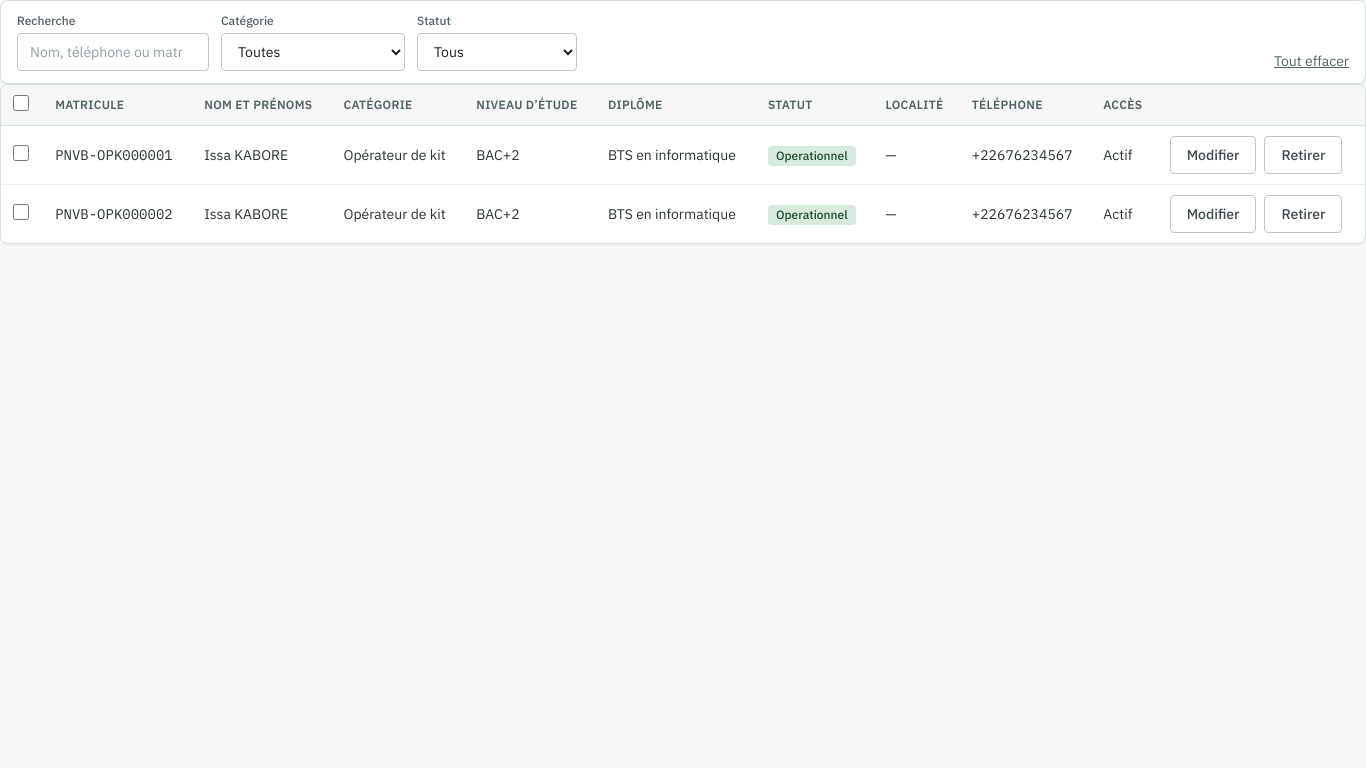
Test case: Registre des volontaires › retire un lot de fiches avec un motif
Step 1. Click the checkbox named "Cocher toute la page" → point(21, 103), box [13, 95, 29, 111]
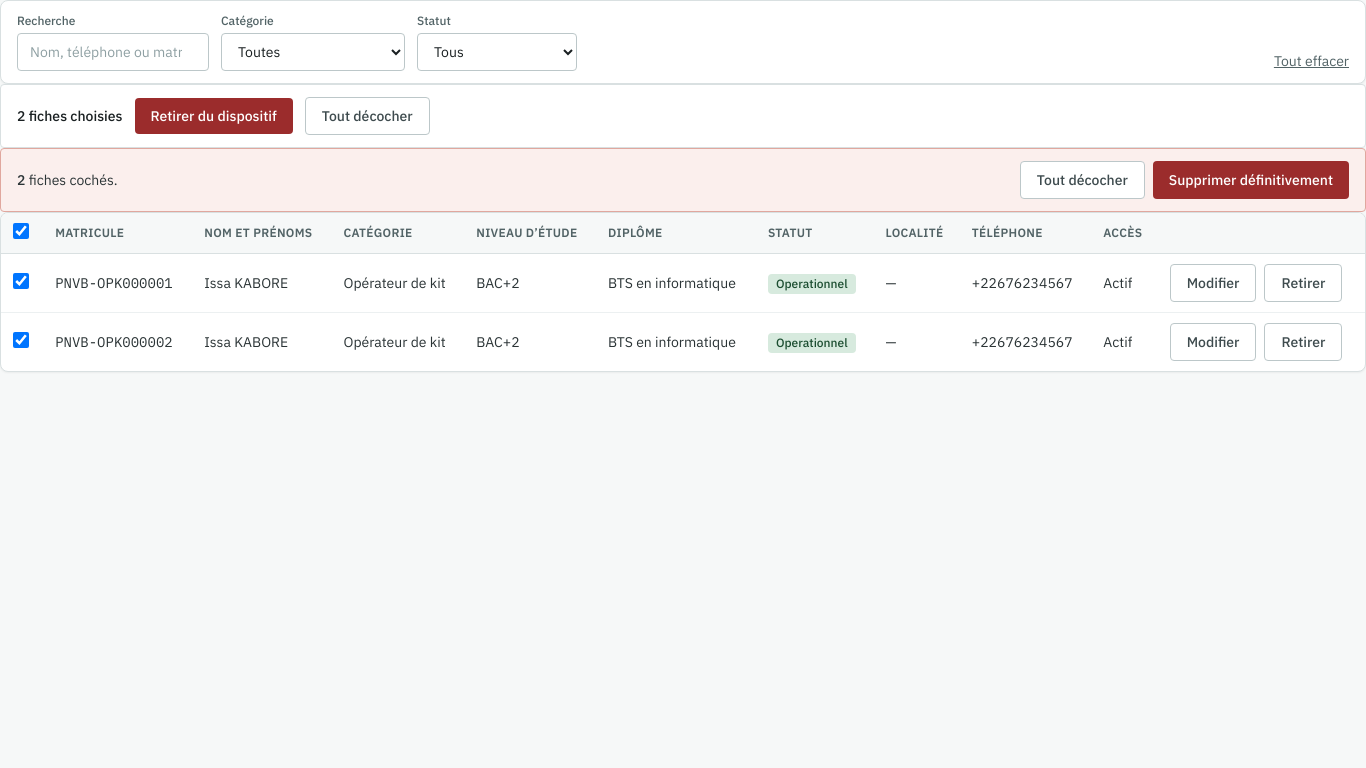
Step 2. Click the button "Retirer du dispositif" → point(214, 116), box [134, 98, 293, 134]
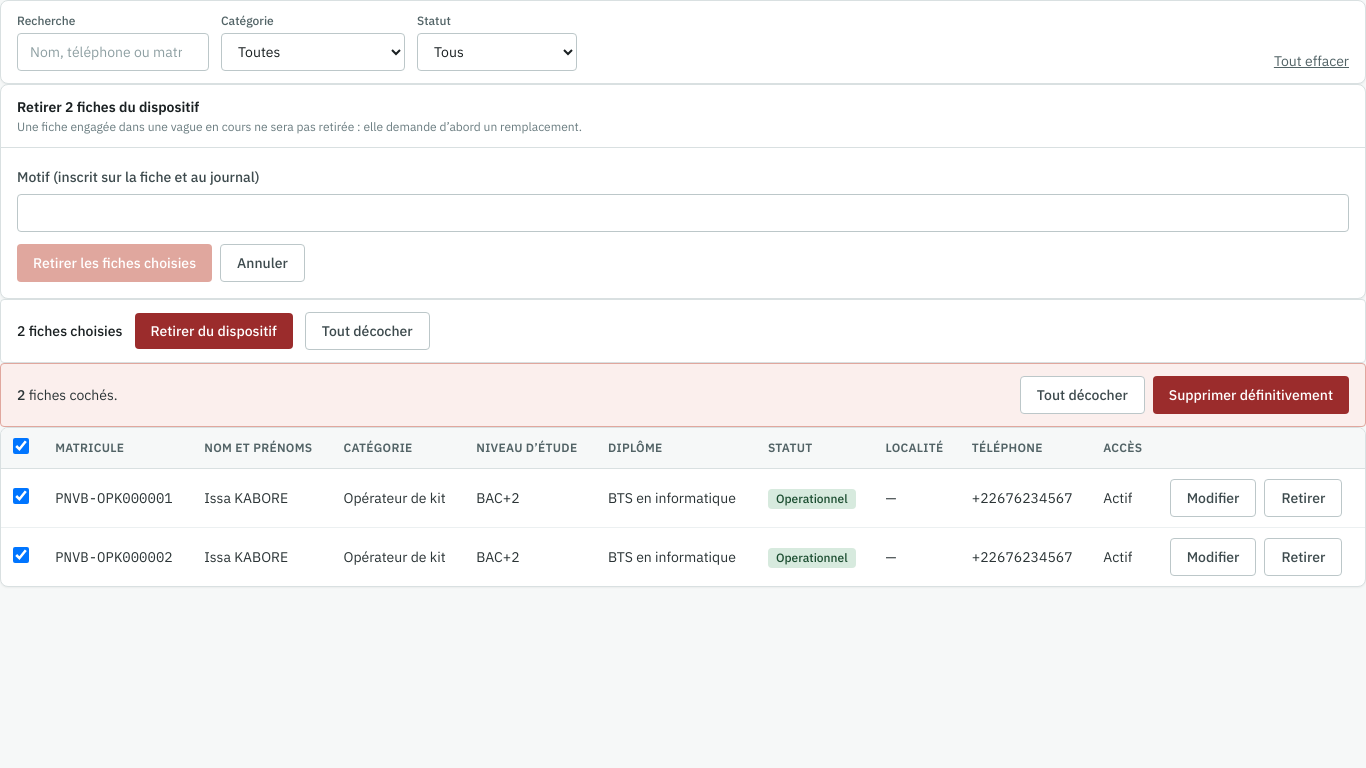
Now the button "Retirer les fiches choisies" is disabled, box [17, 244, 212, 282]
Step 3. Type "Fin de collaboration" into the field labelled "Motif (inscrit sur la fiche et au journal)" → point(683, 213), box [17, 194, 1349, 232]
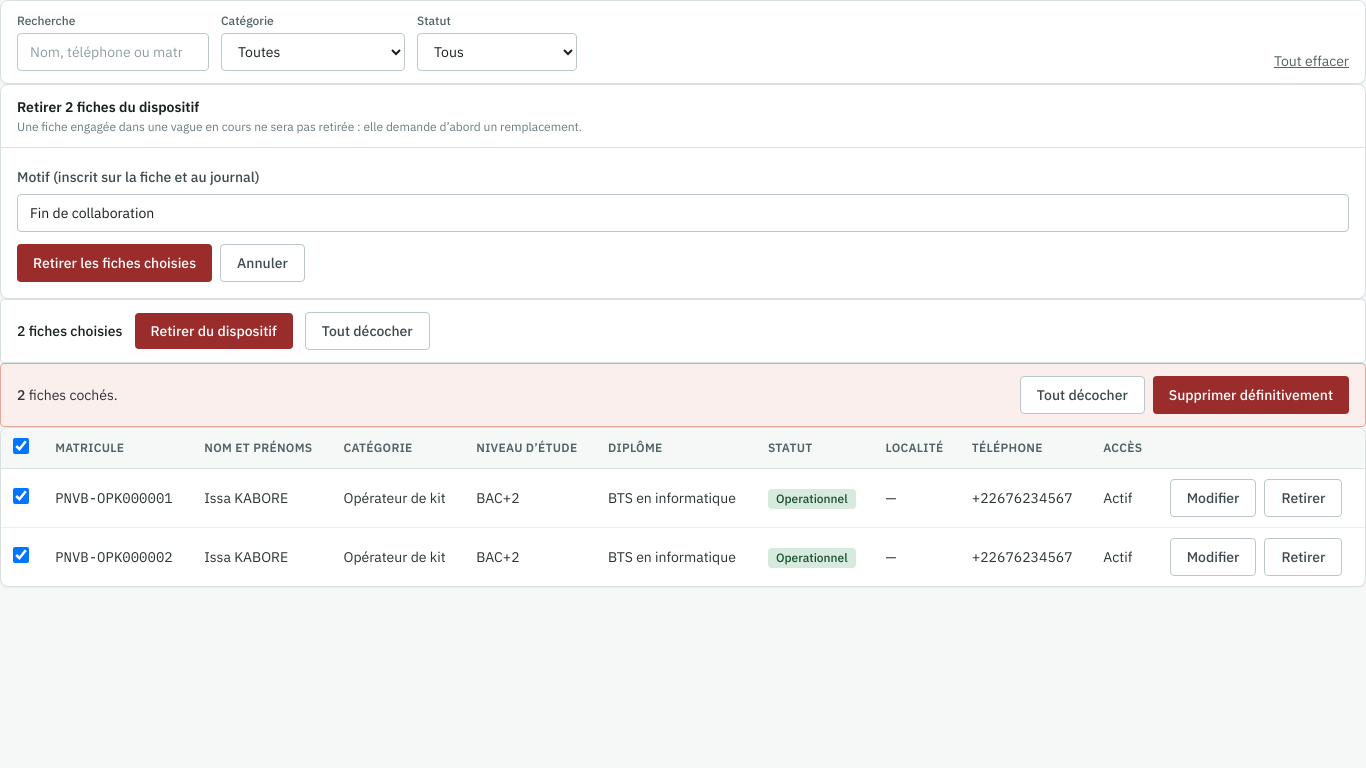
Step 4. Click the button "Retirer les fiches choisies" → point(114, 263), box [17, 244, 212, 282]
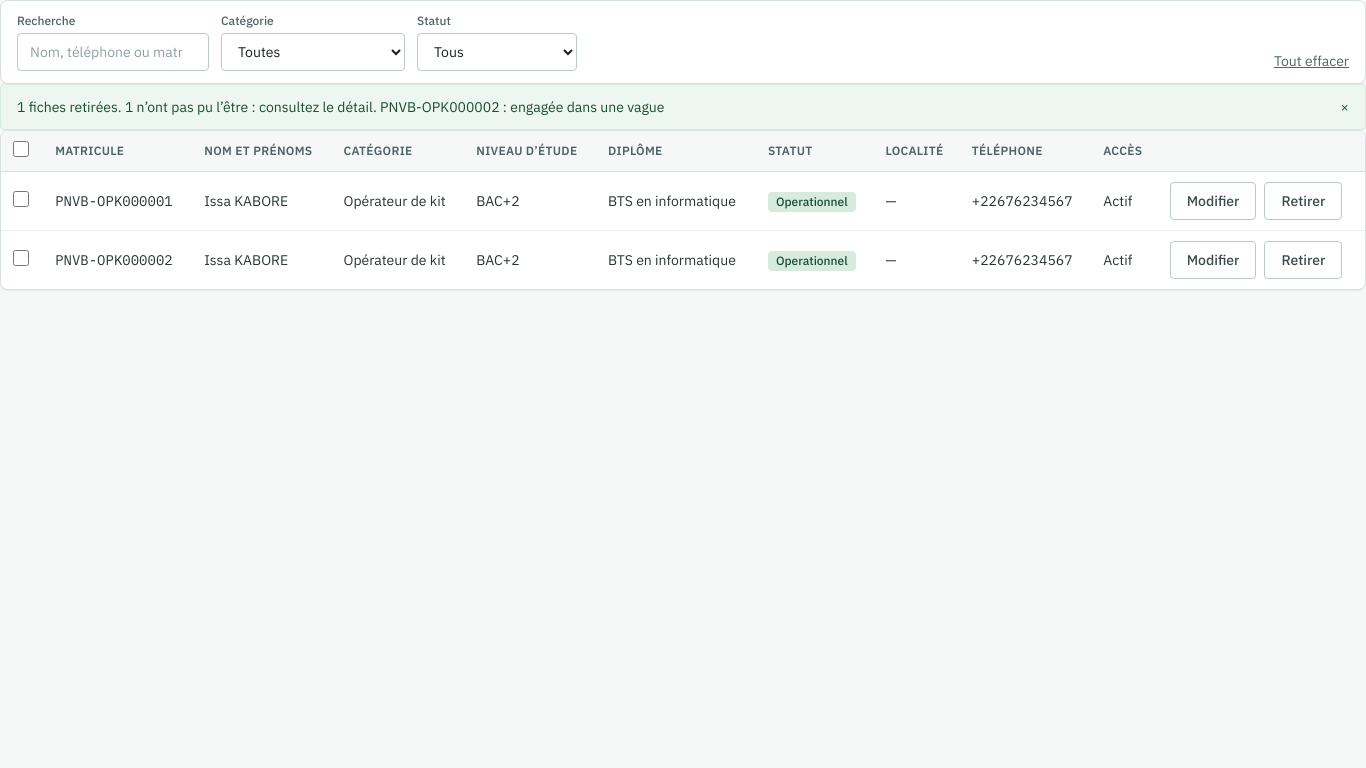
Now the text "PNVB-OPK000002 : engagée dans une vague" is shown, box [17, 98, 664, 116]
